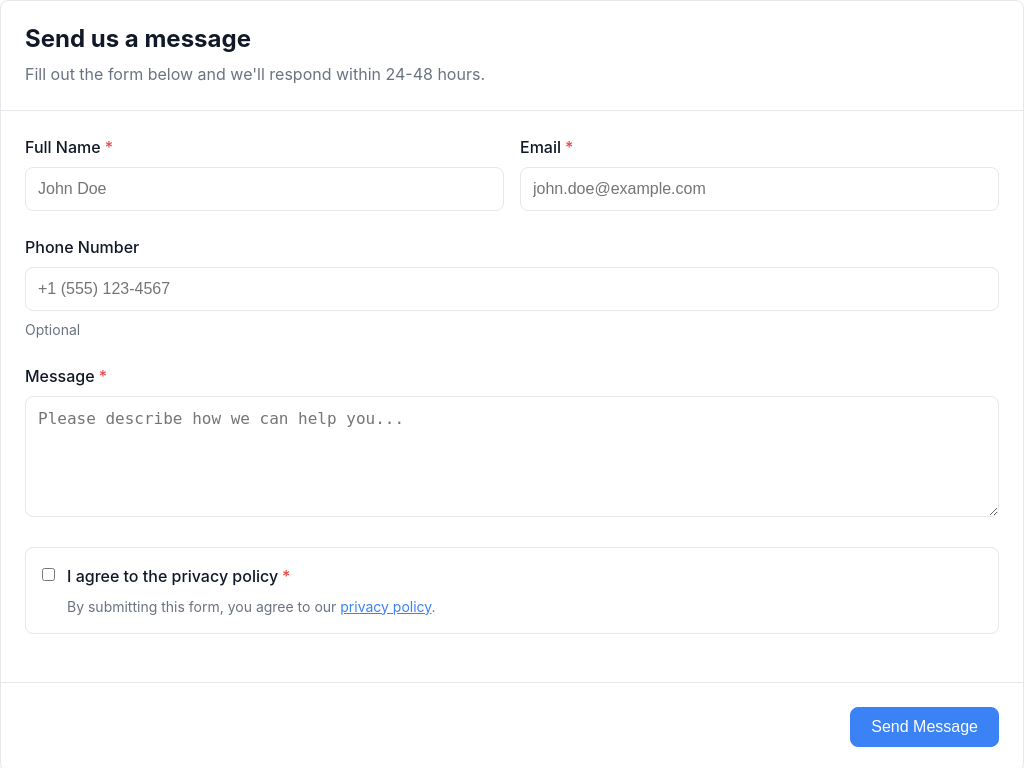
it: ContactForm › shows validation errors for required fields on submit if empty
Click the button "Send Message": click(925, 727) left=850, top=707, right=999, bottom=747
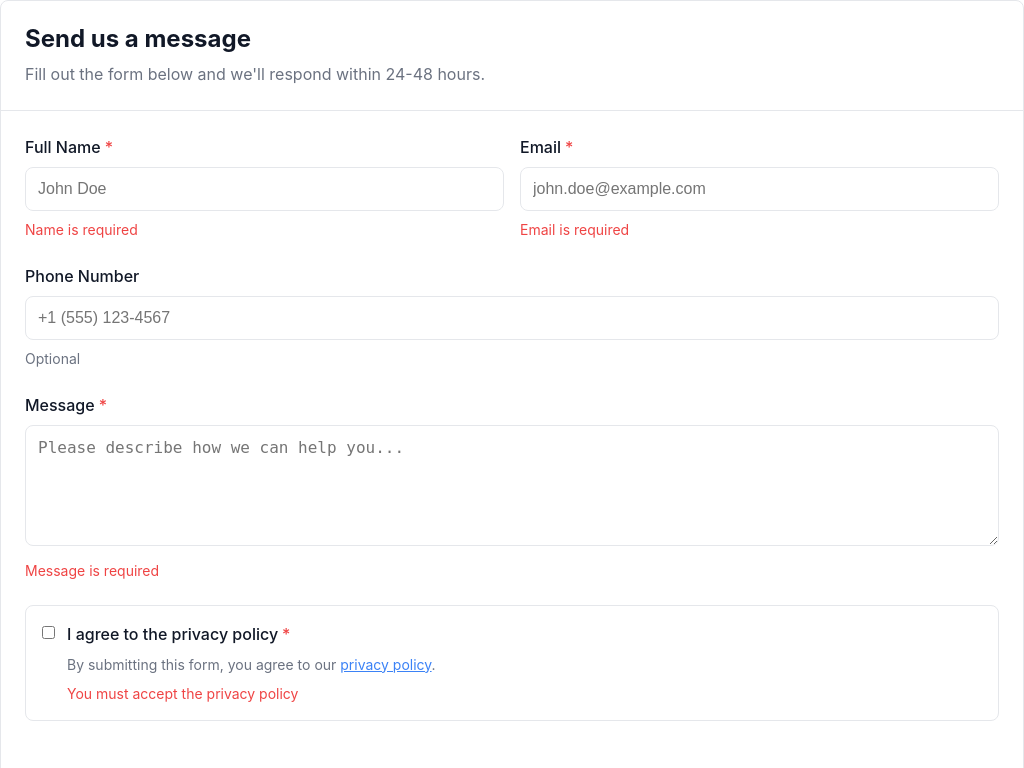
Expected: the text "Name is required" is shown, left=25, top=221, right=138, bottom=238
Expected: the text "Email is required" is shown, left=520, top=221, right=629, bottom=238
Expected: the text "Message is required" is shown, left=25, top=562, right=159, bottom=579
